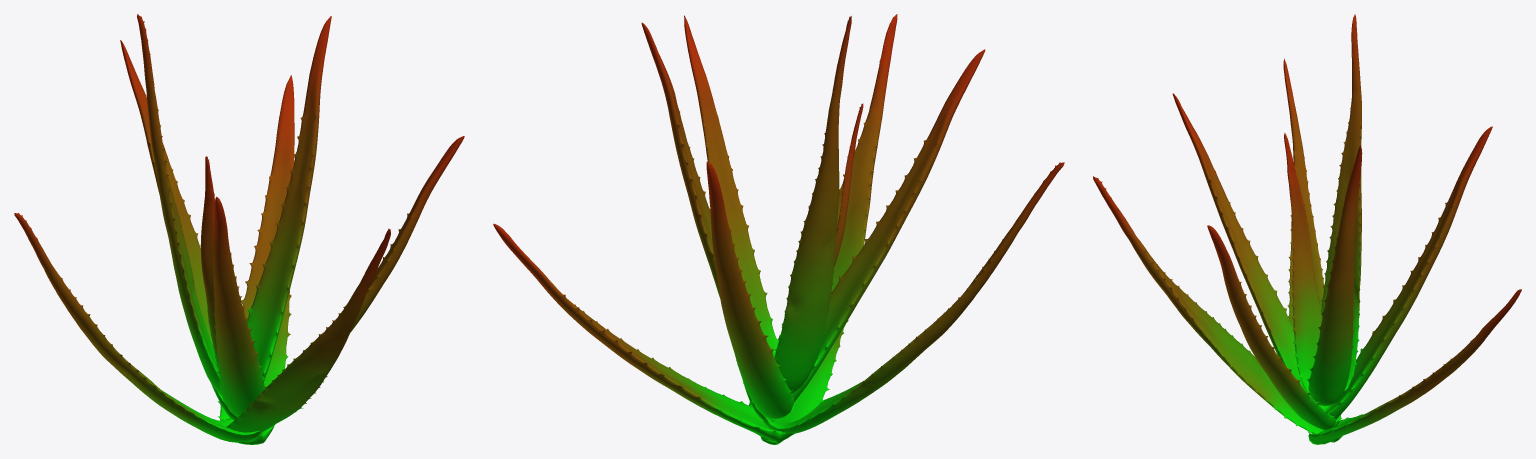
The model's file is Aloe Vera_LOD0_Var2_ve4tbbrha.fbx.
3 renders of one model, left to right at view 1: azimuth 30°, elevation 25°; view 2: azimuth 150°, elevation 25°; view 3: azimuth 270°, elevation 25°, orthographic. The views are drawn at different scales.
Visible parts, largest first — view 1: _m9o5_Var2_LOD0; view 2: _m9o5_Var2_LOD0; view 3: _m9o5_Var2_LOD0.
Part boxes in pixels (bbox=[...]): _m9o5_Var2_LOD0: bbox=[14, 14, 464, 444]; _m9o5_Var2_LOD0: bbox=[493, 14, 1064, 444]; _m9o5_Var2_LOD0: bbox=[1093, 14, 1521, 444].
Size of the model in its own units: 49.47 by 50.62 by 50.51.
